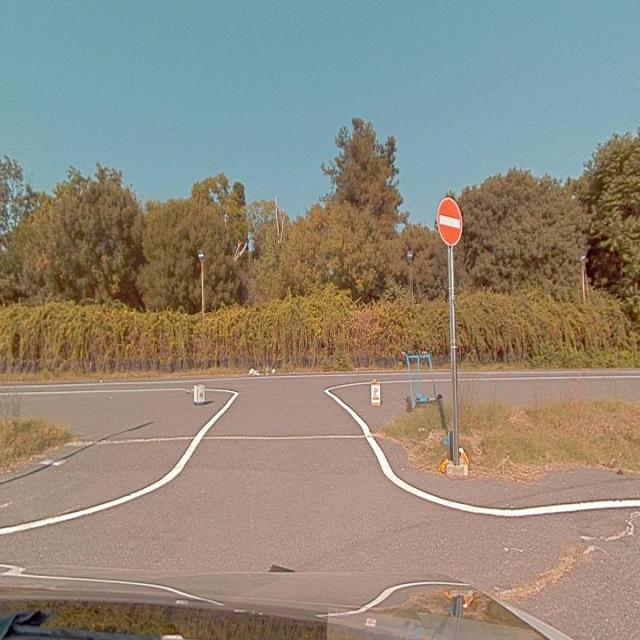girisyok: (438, 197, 462, 247)
